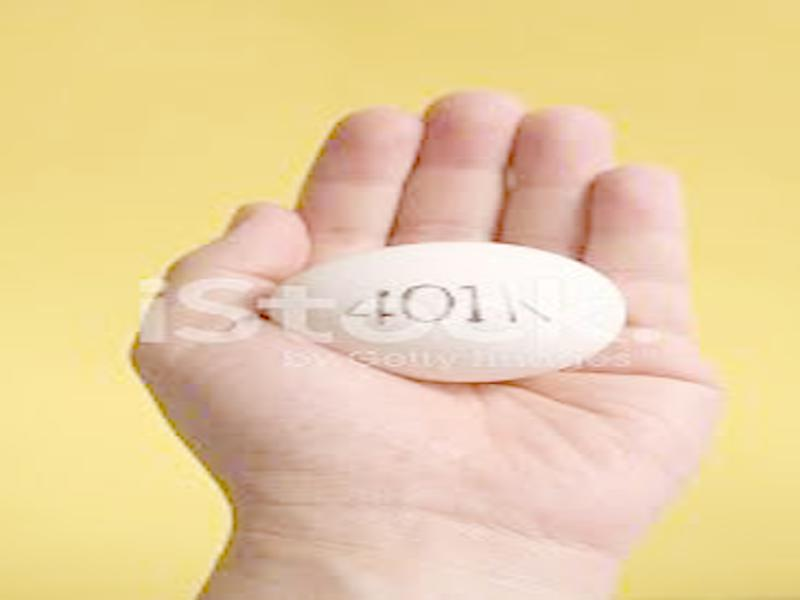Eggs: (267, 242, 625, 380)
